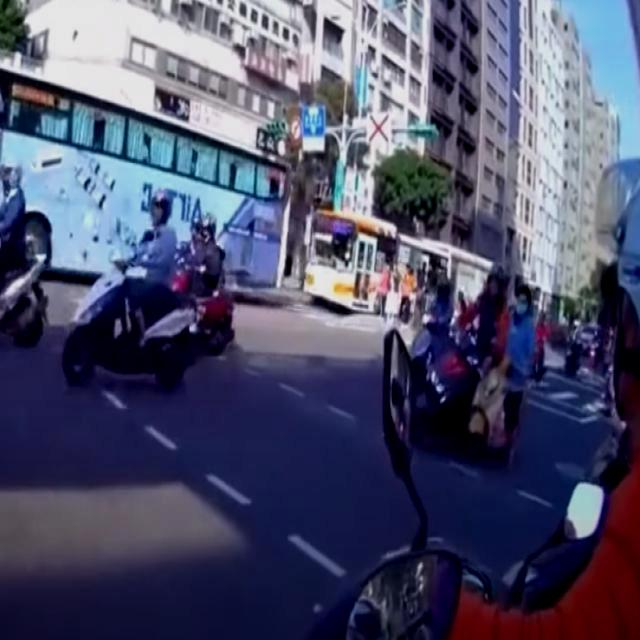accident: (393, 266, 542, 467)
non-accident: (59, 190, 234, 390)
